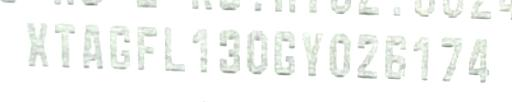letter: (466, 33, 494, 85), (22, 20, 52, 68), (214, 26, 244, 74), (160, 24, 188, 75), (437, 32, 465, 83), (134, 22, 160, 72), (107, 22, 133, 72), (244, 26, 270, 76), (299, 27, 325, 77), (355, 31, 381, 81), (382, 31, 408, 81), (52, 21, 78, 69), (80, 21, 106, 69), (327, 30, 353, 78), (272, 26, 296, 76), (189, 25, 211, 75), (411, 32, 431, 82)
